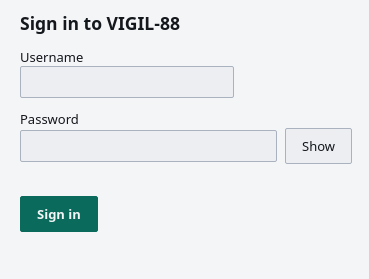
Test: Login › shows the engine's generic failure and clears the password, so a typo is not left on screen
Type "alice" into the field labelled "Username". click: (127, 82)
box: x1=20 y1=66 x2=234 y2=98
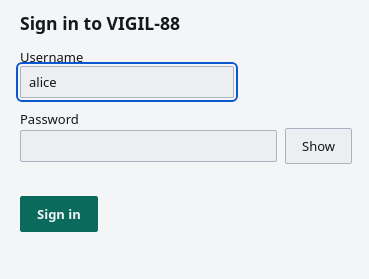
Type "wrong wrong wrong" into the password field labelled "Password". click: (148, 146)
box: x1=20 y1=130 x2=277 y2=162
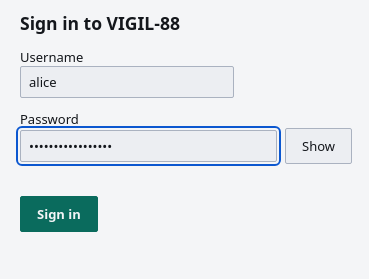
Click the button "Sign in". click: click(59, 214)
box: x1=20 y1=196 x2=98 y2=232
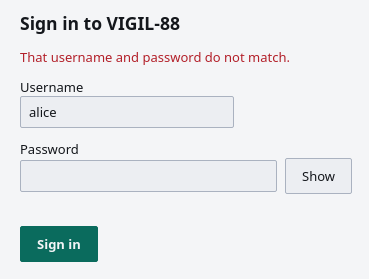
Check: the message reads "That username and password do not match.", box x1=20 y1=48 x2=290 y2=66
Check: the password field labelled "Password" is empty, box x1=20 y1=160 x2=277 y2=192
